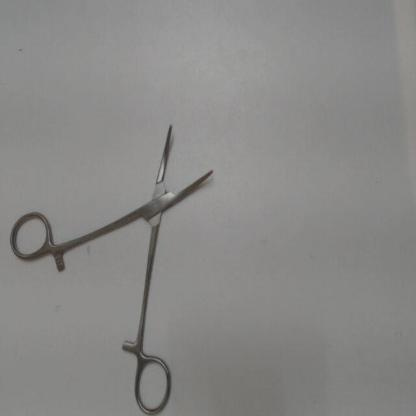Crile Artery Forceps: (6, 111, 223, 415)
